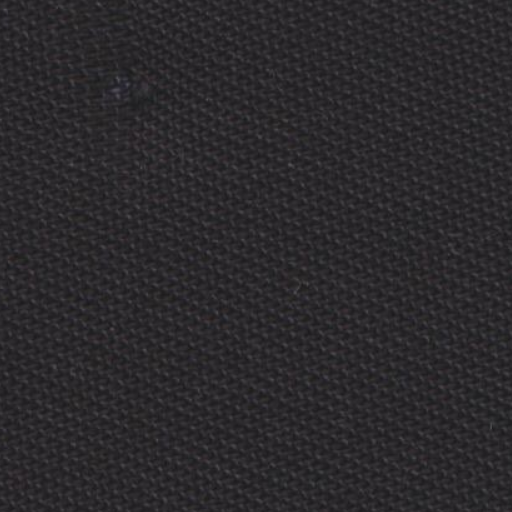PoDong: (68, 44, 168, 123)
